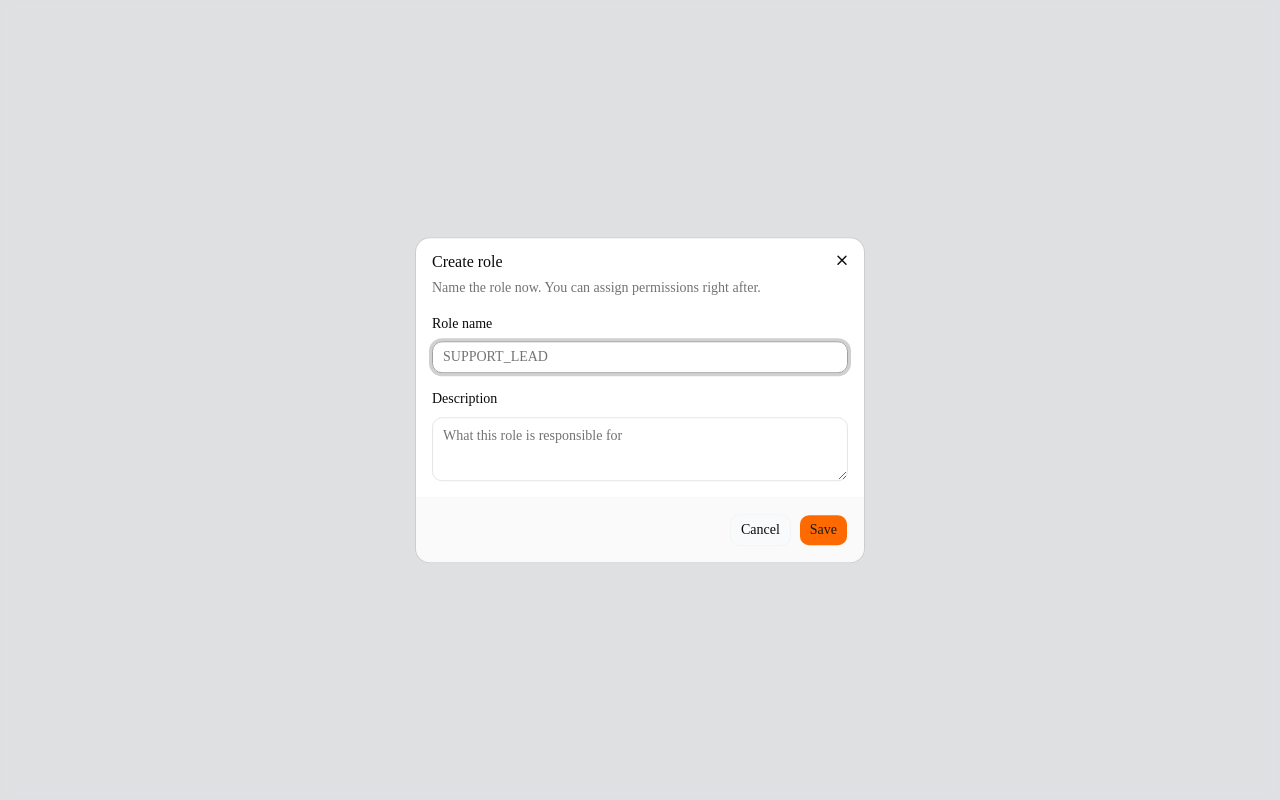
it: CreateRoleDialog › rejects names outside the 2..50 length bounds
The width and height of the screenshot is (1280, 800).
Type "A" into the field labelled "Role name" at [640, 358], box [432,342,848,374]
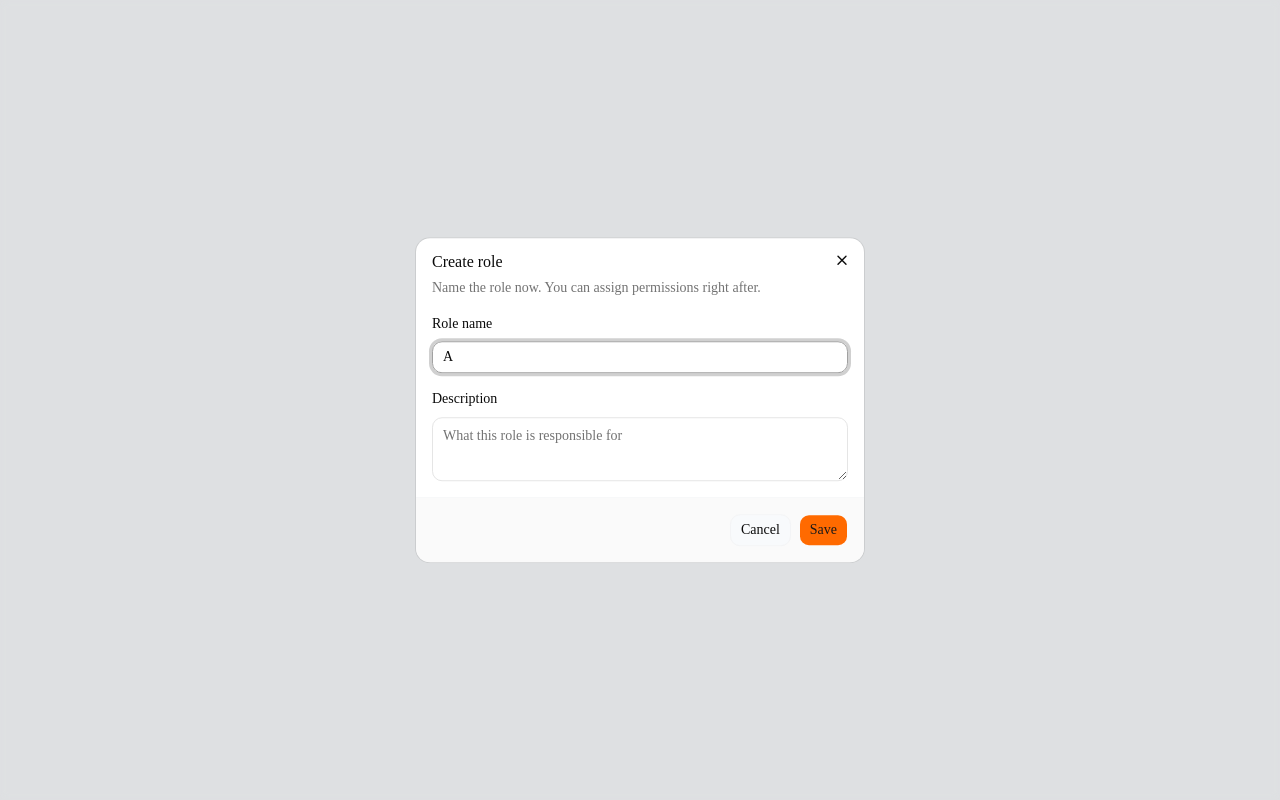
Press Tab
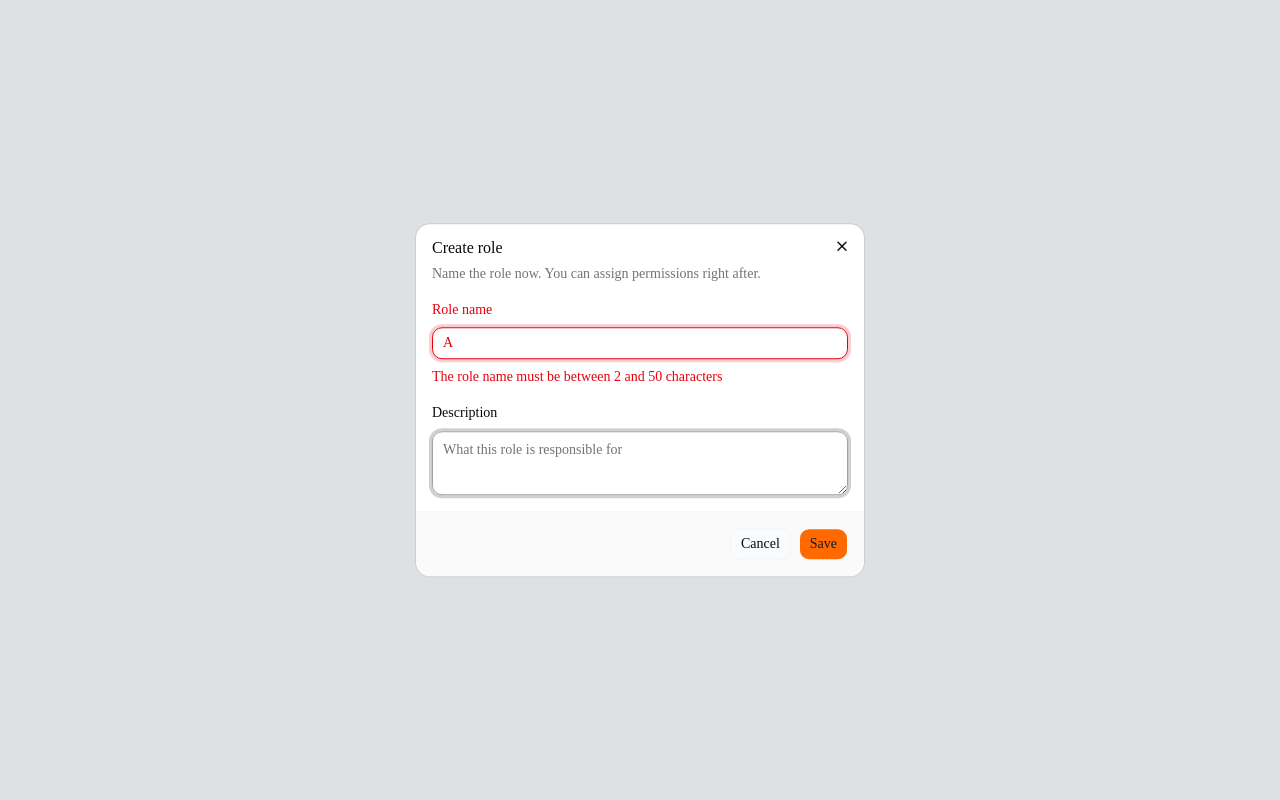
Now the text "The role name must be between 2 and 50 characters" is shown, box [432,370,722,384]
